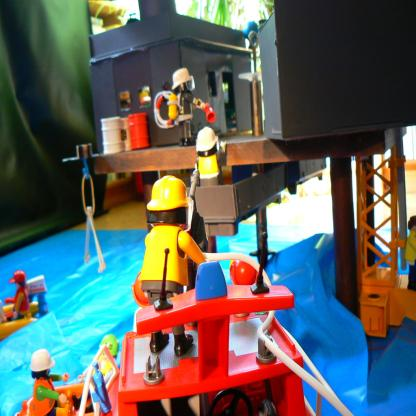Helmet: (147, 176, 193, 225), (29, 348, 57, 374), (196, 125, 222, 153), (170, 68, 197, 89), (100, 333, 118, 358), (8, 270, 26, 286)
